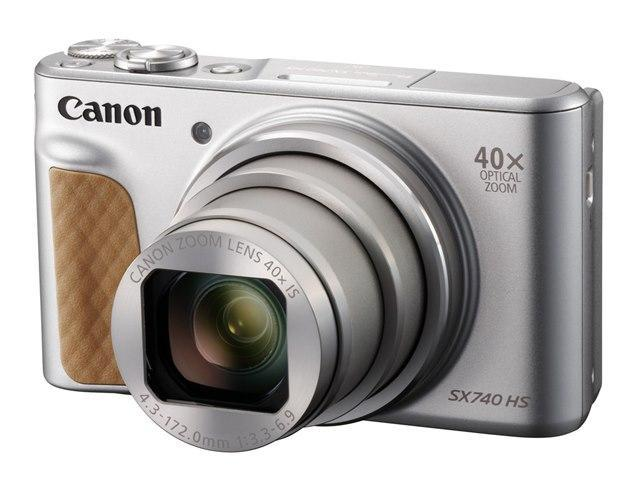degital-camera: (26, 33, 608, 456)
